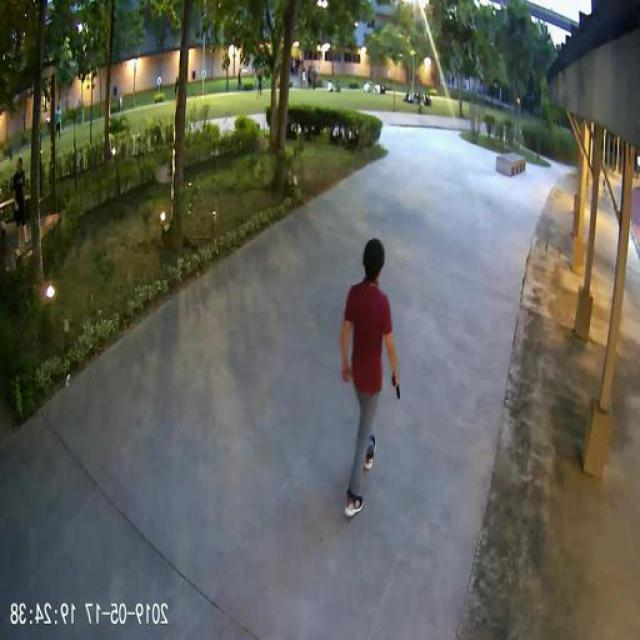weapon: (390, 368, 402, 401)
